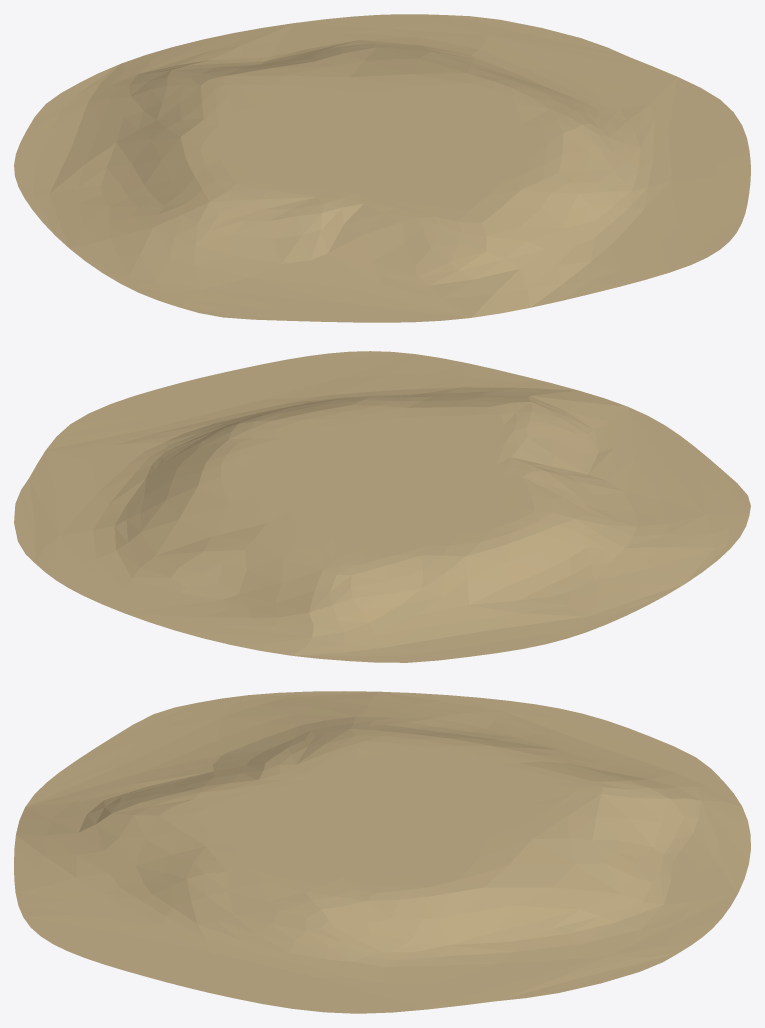
Rendered from SM_Env_Beach_06.glb.
The picture shows the model from 3 angles, top to bottom: view 1: azimuth 30°, elevation 25°; view 2: azimuth 150°, elevation 25°; view 3: azimuth 270°, elevation 25°; orthographic projection. The views are drawn at different scales.
Parts seen in each view (by area): view 1: SM_Env_Beach_06_part00; view 2: SM_Env_Beach_06_part00; view 3: SM_Env_Beach_06_part00.
Boxes of the visible parts, box(x1,y1,x2,y2) form: SM_Env_Beach_06_part00: box(14, 14, 750, 322); SM_Env_Beach_06_part00: box(14, 351, 750, 662); SM_Env_Beach_06_part00: box(14, 691, 750, 1013).
Bounding box in the file's own units: 26.99 × 1.23 × 26.06.
1 material, 1 textured.
